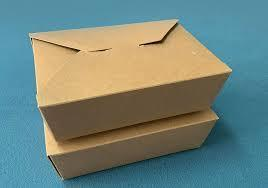box: (29, 19, 232, 142), (43, 109, 219, 180)
